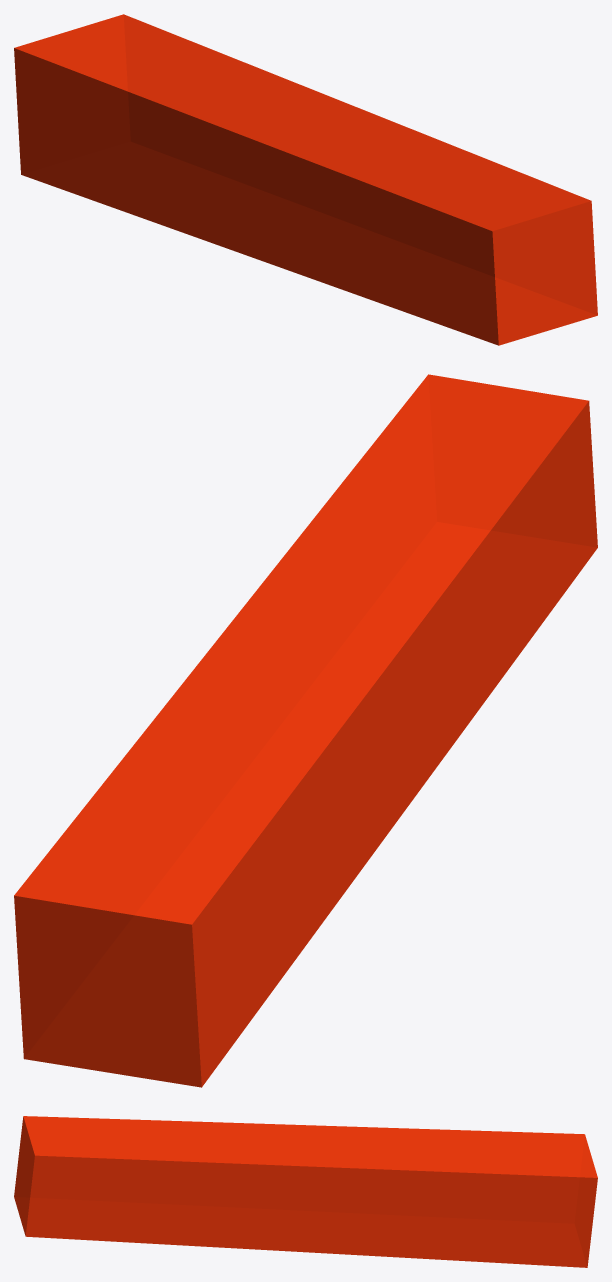
File: Event_421364160_EBrechit_1.fbx
3 renders of one model, top to bottom at view 1: azimuth 30°, elevation 25°; view 2: azimuth 150°, elevation 25°; view 3: azimuth 270°, elevation 25°, orthographic. The views are drawn at different scales.
Visible parts, largest first — view 1: Model; view 2: Model; view 3: Model.
Boxes of the visible parts, left/top/right/bottom form: Model: left=14, top=14, right=597, bottom=345; Model: left=14, top=374, right=597, bottom=1087; Model: left=14, top=1116, right=597, bottom=1267.
Size of the model in its own units: 0.1071 by 0.0981 by 0.3601.
